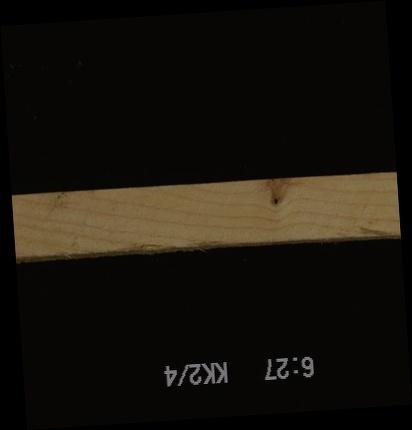small_knot: (272, 195, 279, 206)
split: (136, 243, 160, 249)
